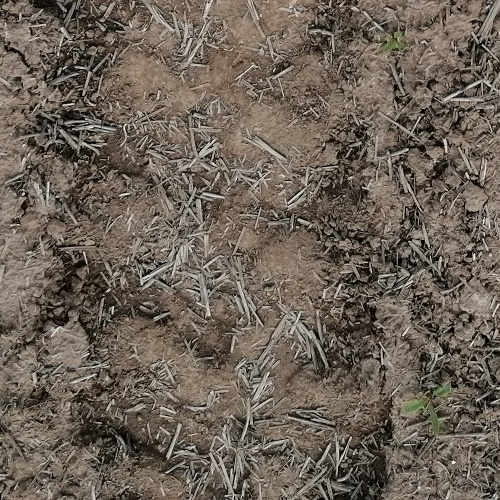beet: (403, 384, 453, 435), (379, 32, 409, 55)
